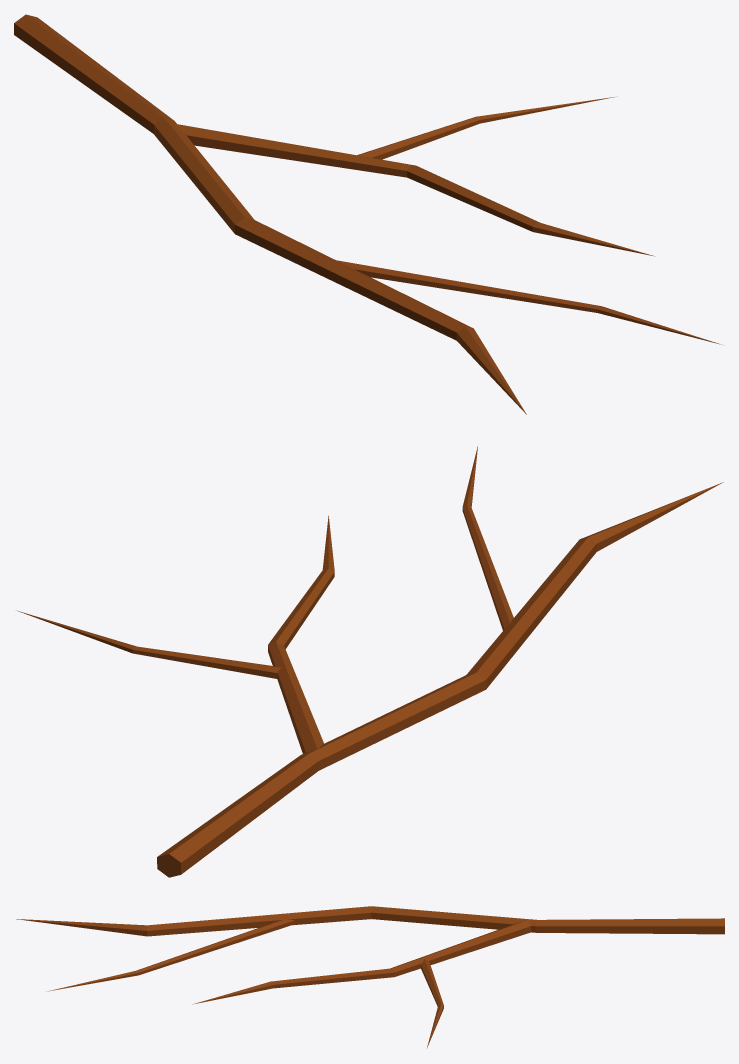
The model's file is Vegetation_Tree_Roots_Vines_Snaking_09.FBX.
The picture shows the model from 3 angles, top to bottom: view 1: azimuth 30°, elevation 25°; view 2: azimuth 150°, elevation 25°; view 3: azimuth 270°, elevation 25°; orthographic projection. The views are drawn at different scales.
Parts seen in each view (by area): view 1: Vegetation_Tree_Roots_Vines_Snaking_09; view 2: Vegetation_Tree_Roots_Vines_Snaking_09; view 3: Vegetation_Tree_Roots_Vines_Snaking_09.
Boxes of the visible parts, box(x1,y1,x2,y2) form: Vegetation_Tree_Roots_Vines_Snaking_09: box(14, 14, 722, 414); Vegetation_Tree_Roots_Vines_Snaking_09: box(17, 446, 723, 877); Vegetation_Tree_Roots_Vines_Snaking_09: box(16, 906, 724, 1047).
Size of the model in its own units: 3352 by 177 by 7175.
